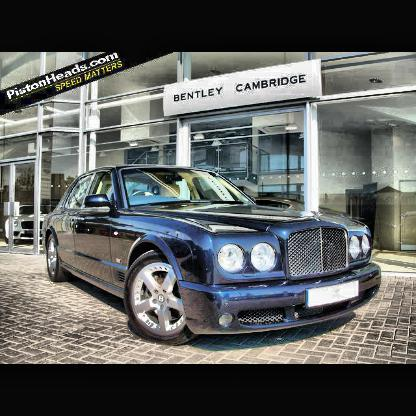Bentley Arnage Sedan 2009: (41, 162, 384, 355)
